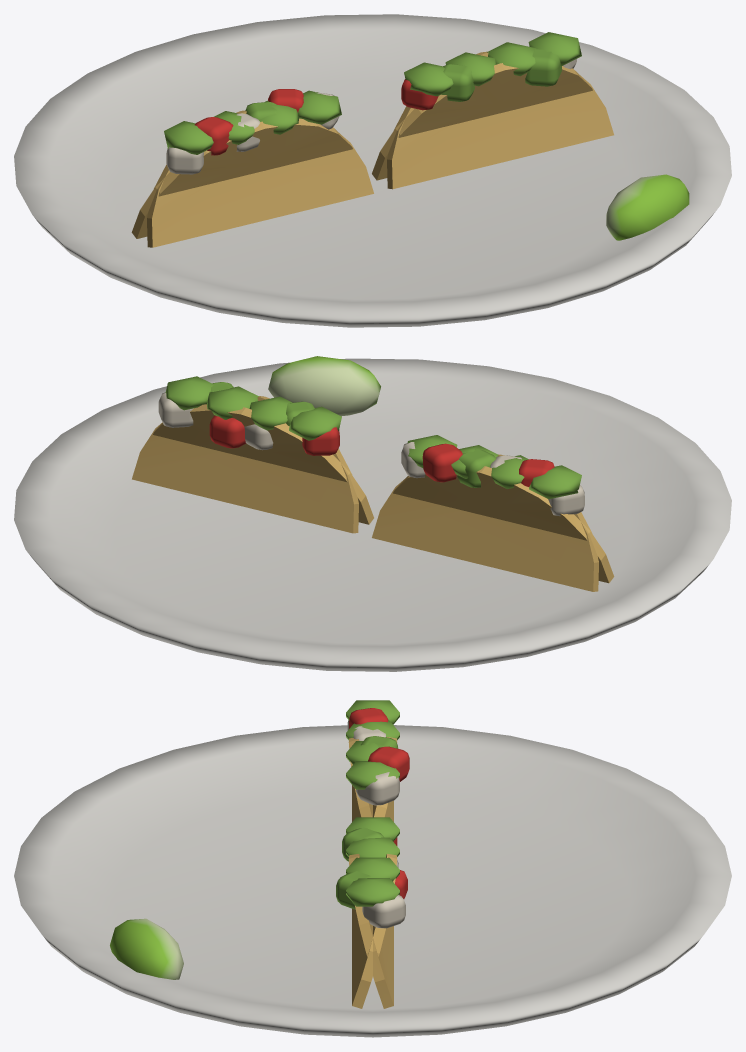
File: item_dish_fish_tacos.glb
3 renders of one model, top to bottom at view 1: azimuth 30°, elevation 25°; view 2: azimuth 150°, elevation 25°; view 3: azimuth 270°, elevation 25°, orthographic.
Visible parts, largest first — view 1: item_dish_fish_tacos_main; view 2: item_dish_fish_tacos_main; view 3: item_dish_fish_tacos_main.
Part boxes in pixels (x1=…): item_dish_fish_tacos_main: x1=14, y1=14, x2=731, y2=327; item_dish_fish_tacos_main: x1=14, y1=356, x2=731, y2=671; item_dish_fish_tacos_main: x1=14, y1=700, x2=731, y2=1037.
Size of the model in its own units: 0.27 by 0.0558 by 0.27.
